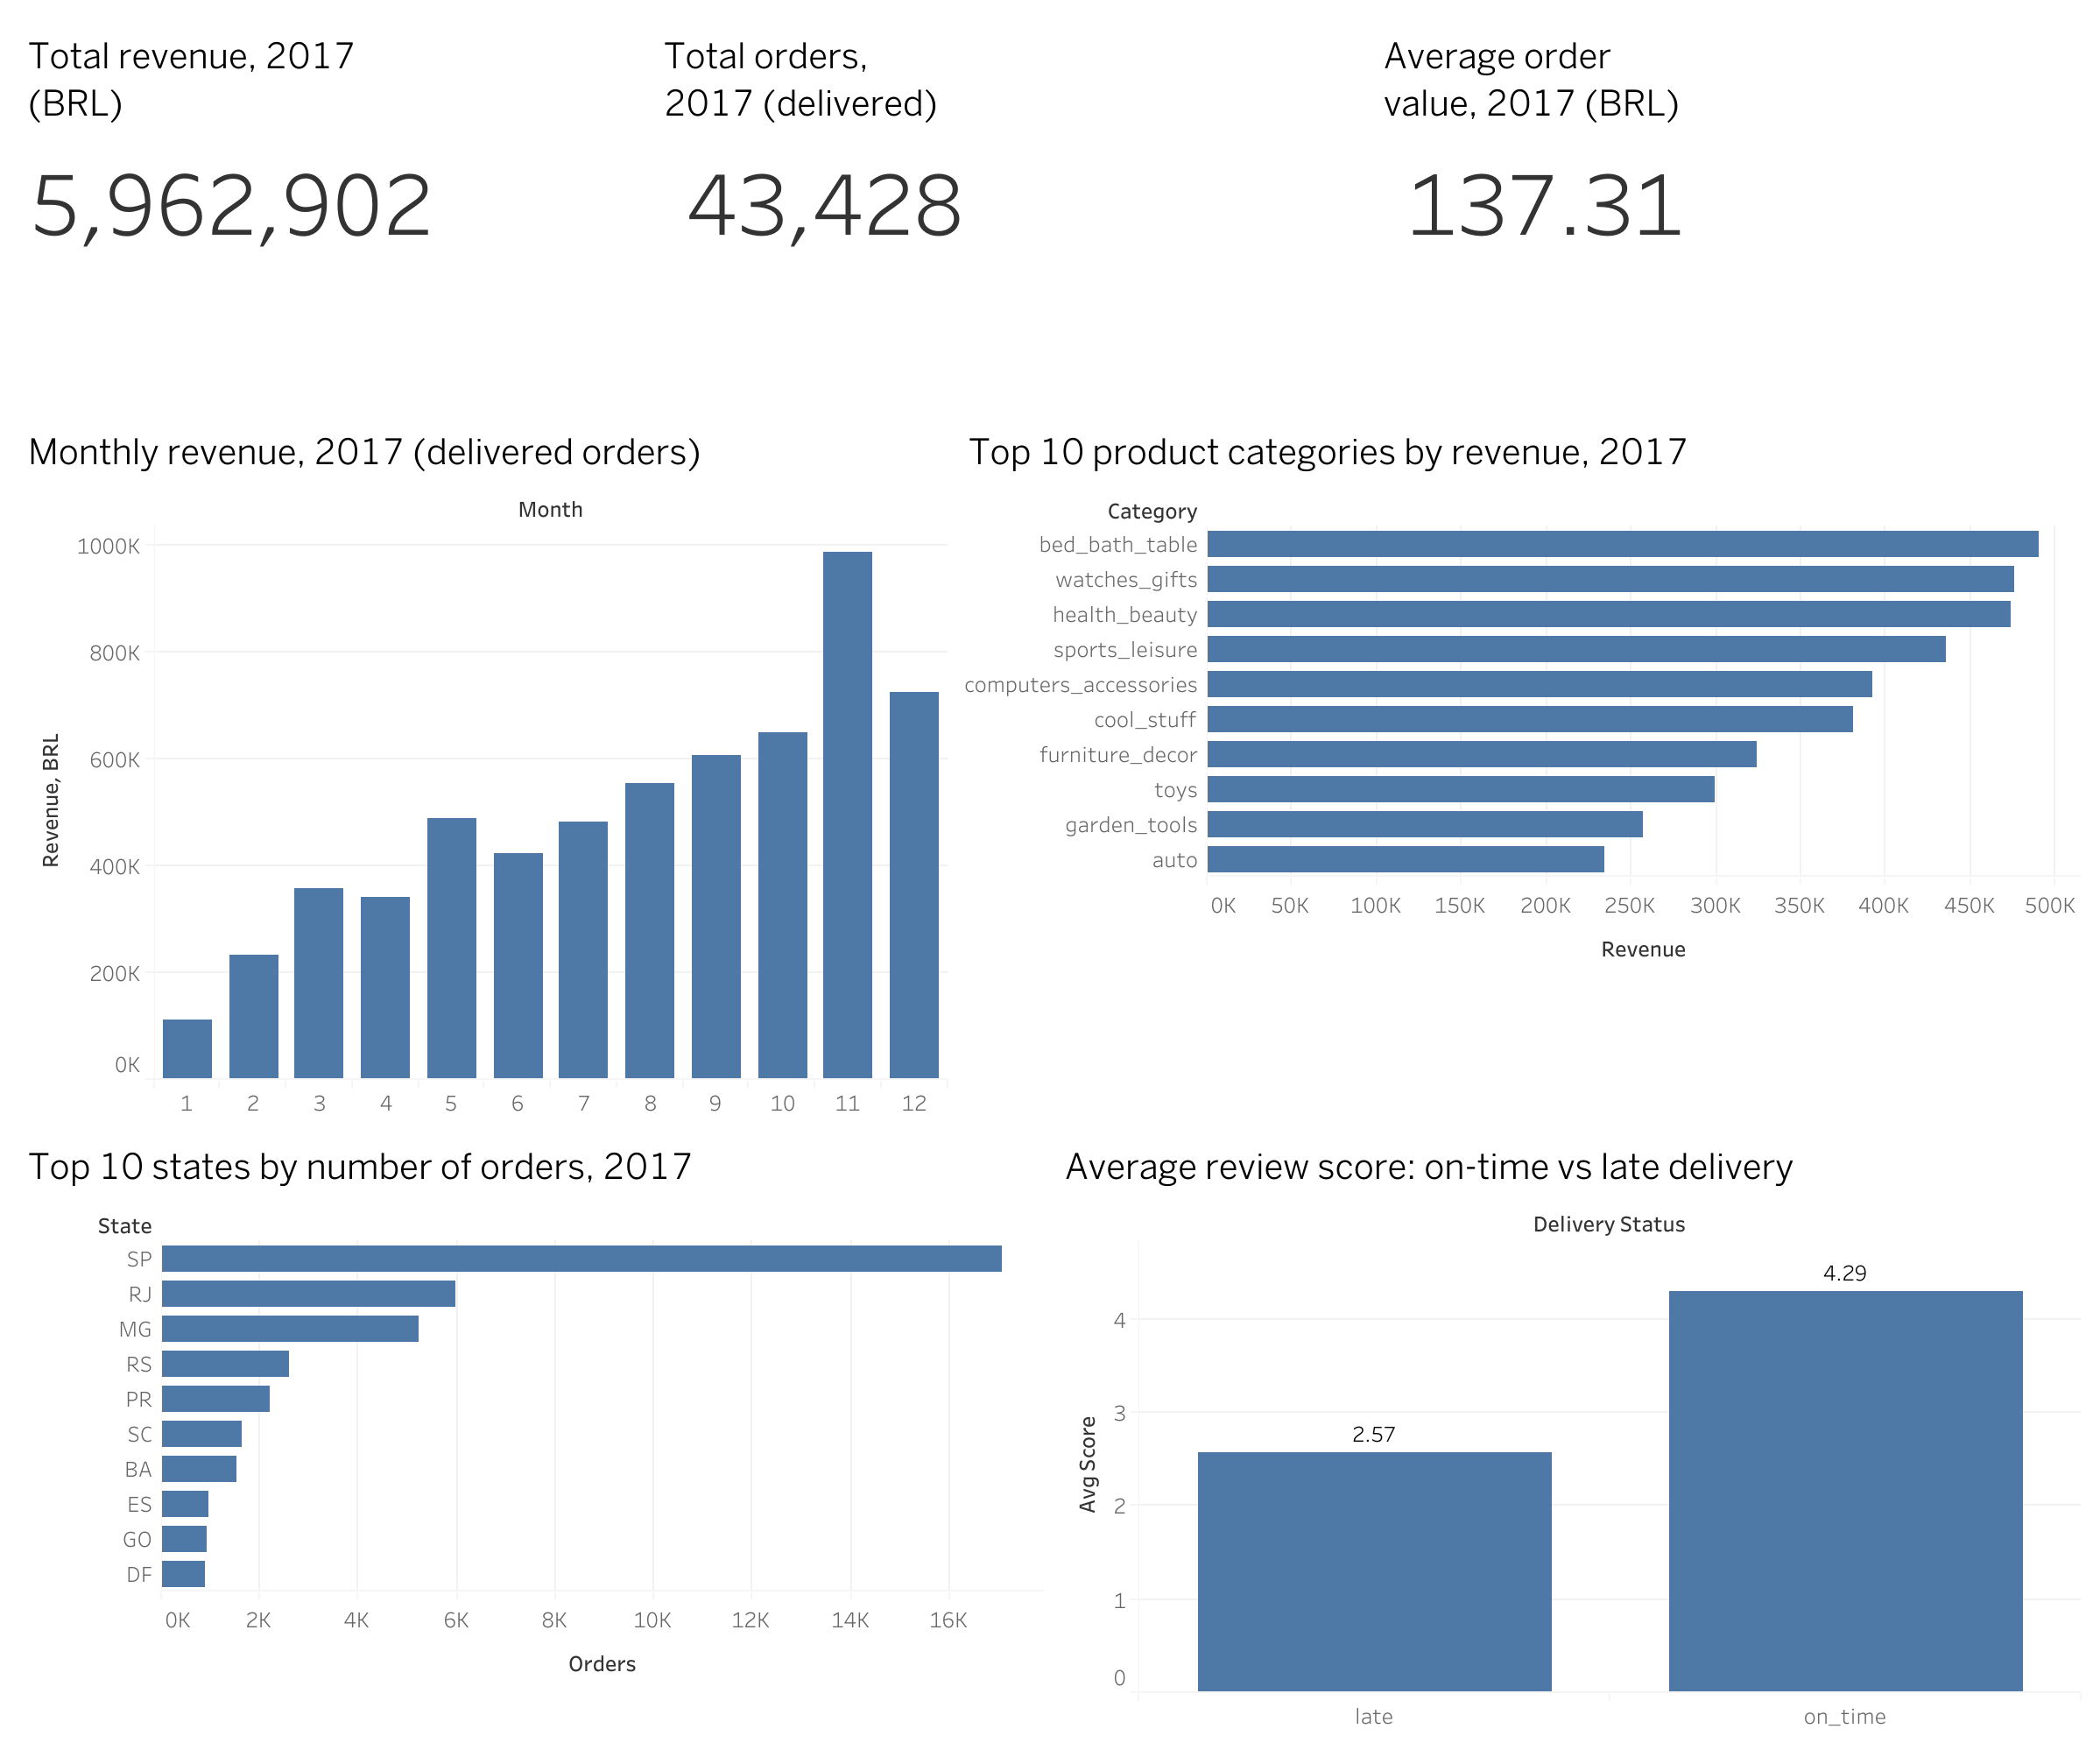

This screenshot's page, from the dashboard's own definition file:
{"tool":"powerbi","page":{"name":"Страница 1","canvas":[1920,1080],"ordinal":0},"visuals":[{"type":"cardVisual","title":"Total revenue, 2017 (BRL)","fields":{"Data":["Sum(kpi_2017.total_revenue)"]},"box":[10,105.7,431.4,174.3],"z":0},{"type":"cardVisual","title":"Total orders, 2017 (delivered)","fields":{"Data":["Sum(kpi_2017.total_orders)"]},"box":[441.4,105.7,447.1,174.3],"z":1000},{"type":"cardVisual","title":"Average order value, 2017 (BRL)","fields":{"Data":["Sum(kpi_2017.avg_order_value)"]},"box":[888.6,105.7,425.7,174.3],"z":2000},{"type":"clusteredColumnChart","title":"Monthly revenue, 2017 (delivered orders)","fields":{"Category":["monthly_revenue.month"],"Y":["Sum(monthly_revenue.revenue)"]},"box":[11.2,281.2,546.2,433.8],"z":3000},{"type":"clusteredColumnChart","title":"Average review score: on-time vs late delivery","fields":{"Category":["delivery_vs_review.delivery_status"],"Y":["Sum(delivery_vs_review.avg_score)"]},"box":[828.6,715.7,485.7,355.7],"z":4000},{"type":"clusteredBarChart","title":"Top 10 product categories by revenue, 2017","fields":{"Category":["top_categories.category"],"Y":["Sum(top_categories.revenue)"]},"box":[557.1,281.4,757.1,434.3],"z":5000},{"type":"clusteredBarChart","title":"Top 10 states by number of orders, 2017","fields":{"Category":["orders_by_state.state"],"Y":["Sum(orders_by_state.orders)"]},"box":[11.4,715.7,817.1,355.7],"z":5001},{"type":"textbox","box":[0,0,1314.3,280],"z":5002}]}

Visuals, with their boxes on the page's 1920x1080 design canvas (x1, y1, x2, y2). These are canvas units, not pixel positions in the 2100x1750 screenshot, which may show the page scaled, cropped or inside an application window:
"Total revenue, 2017 (BRL)" cardVisual: BBox(10, 106, 441, 280)
"Total orders, 2017 (delivered)" cardVisual: BBox(441, 106, 888, 280)
"Average order value, 2017 (BRL)" cardVisual: BBox(889, 106, 1314, 280)
"Monthly revenue, 2017 (delivered orders)" clusteredColumnChart: BBox(11, 281, 557, 715)
"Average review score: on-time vs late delivery" clusteredColumnChart: BBox(829, 716, 1314, 1071)
"Top 10 product categories by revenue, 2017" clusteredBarChart: BBox(557, 281, 1314, 716)
"Top 10 states by number of orders, 2017" clusteredBarChart: BBox(11, 716, 828, 1071)
textbox: BBox(0, 0, 1314, 280)
